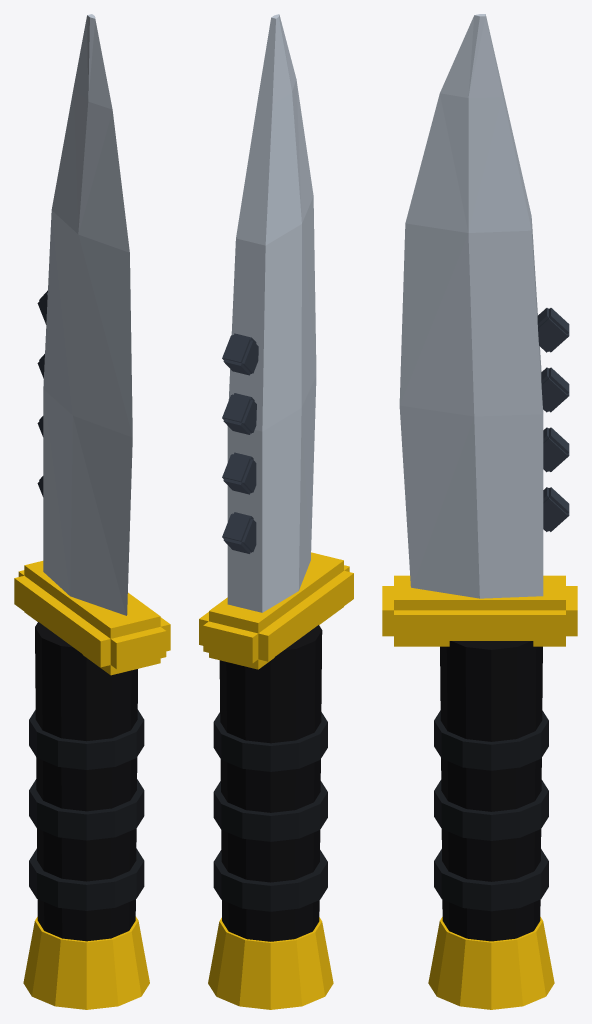
Rendered from Weapon_Knife.obj.
The picture shows the model from 3 angles, left to right: view 1: azimuth 30°, elevation 25°; view 2: azimuth 150°, elevation 25°; view 3: azimuth 270°, elevation 25°; orthographic projection.
Parts seen in each view (by area): view 1: default; view 2: default; view 3: default.
Part boxes in pixels (box(x1,y1,x2,y2)): default: box(14, 14, 170, 1009); default: box(199, 14, 353, 1009); default: box(382, 14, 577, 1009).
Bounding box in the file's own units: 0.044 × 0.372 × 0.068.
